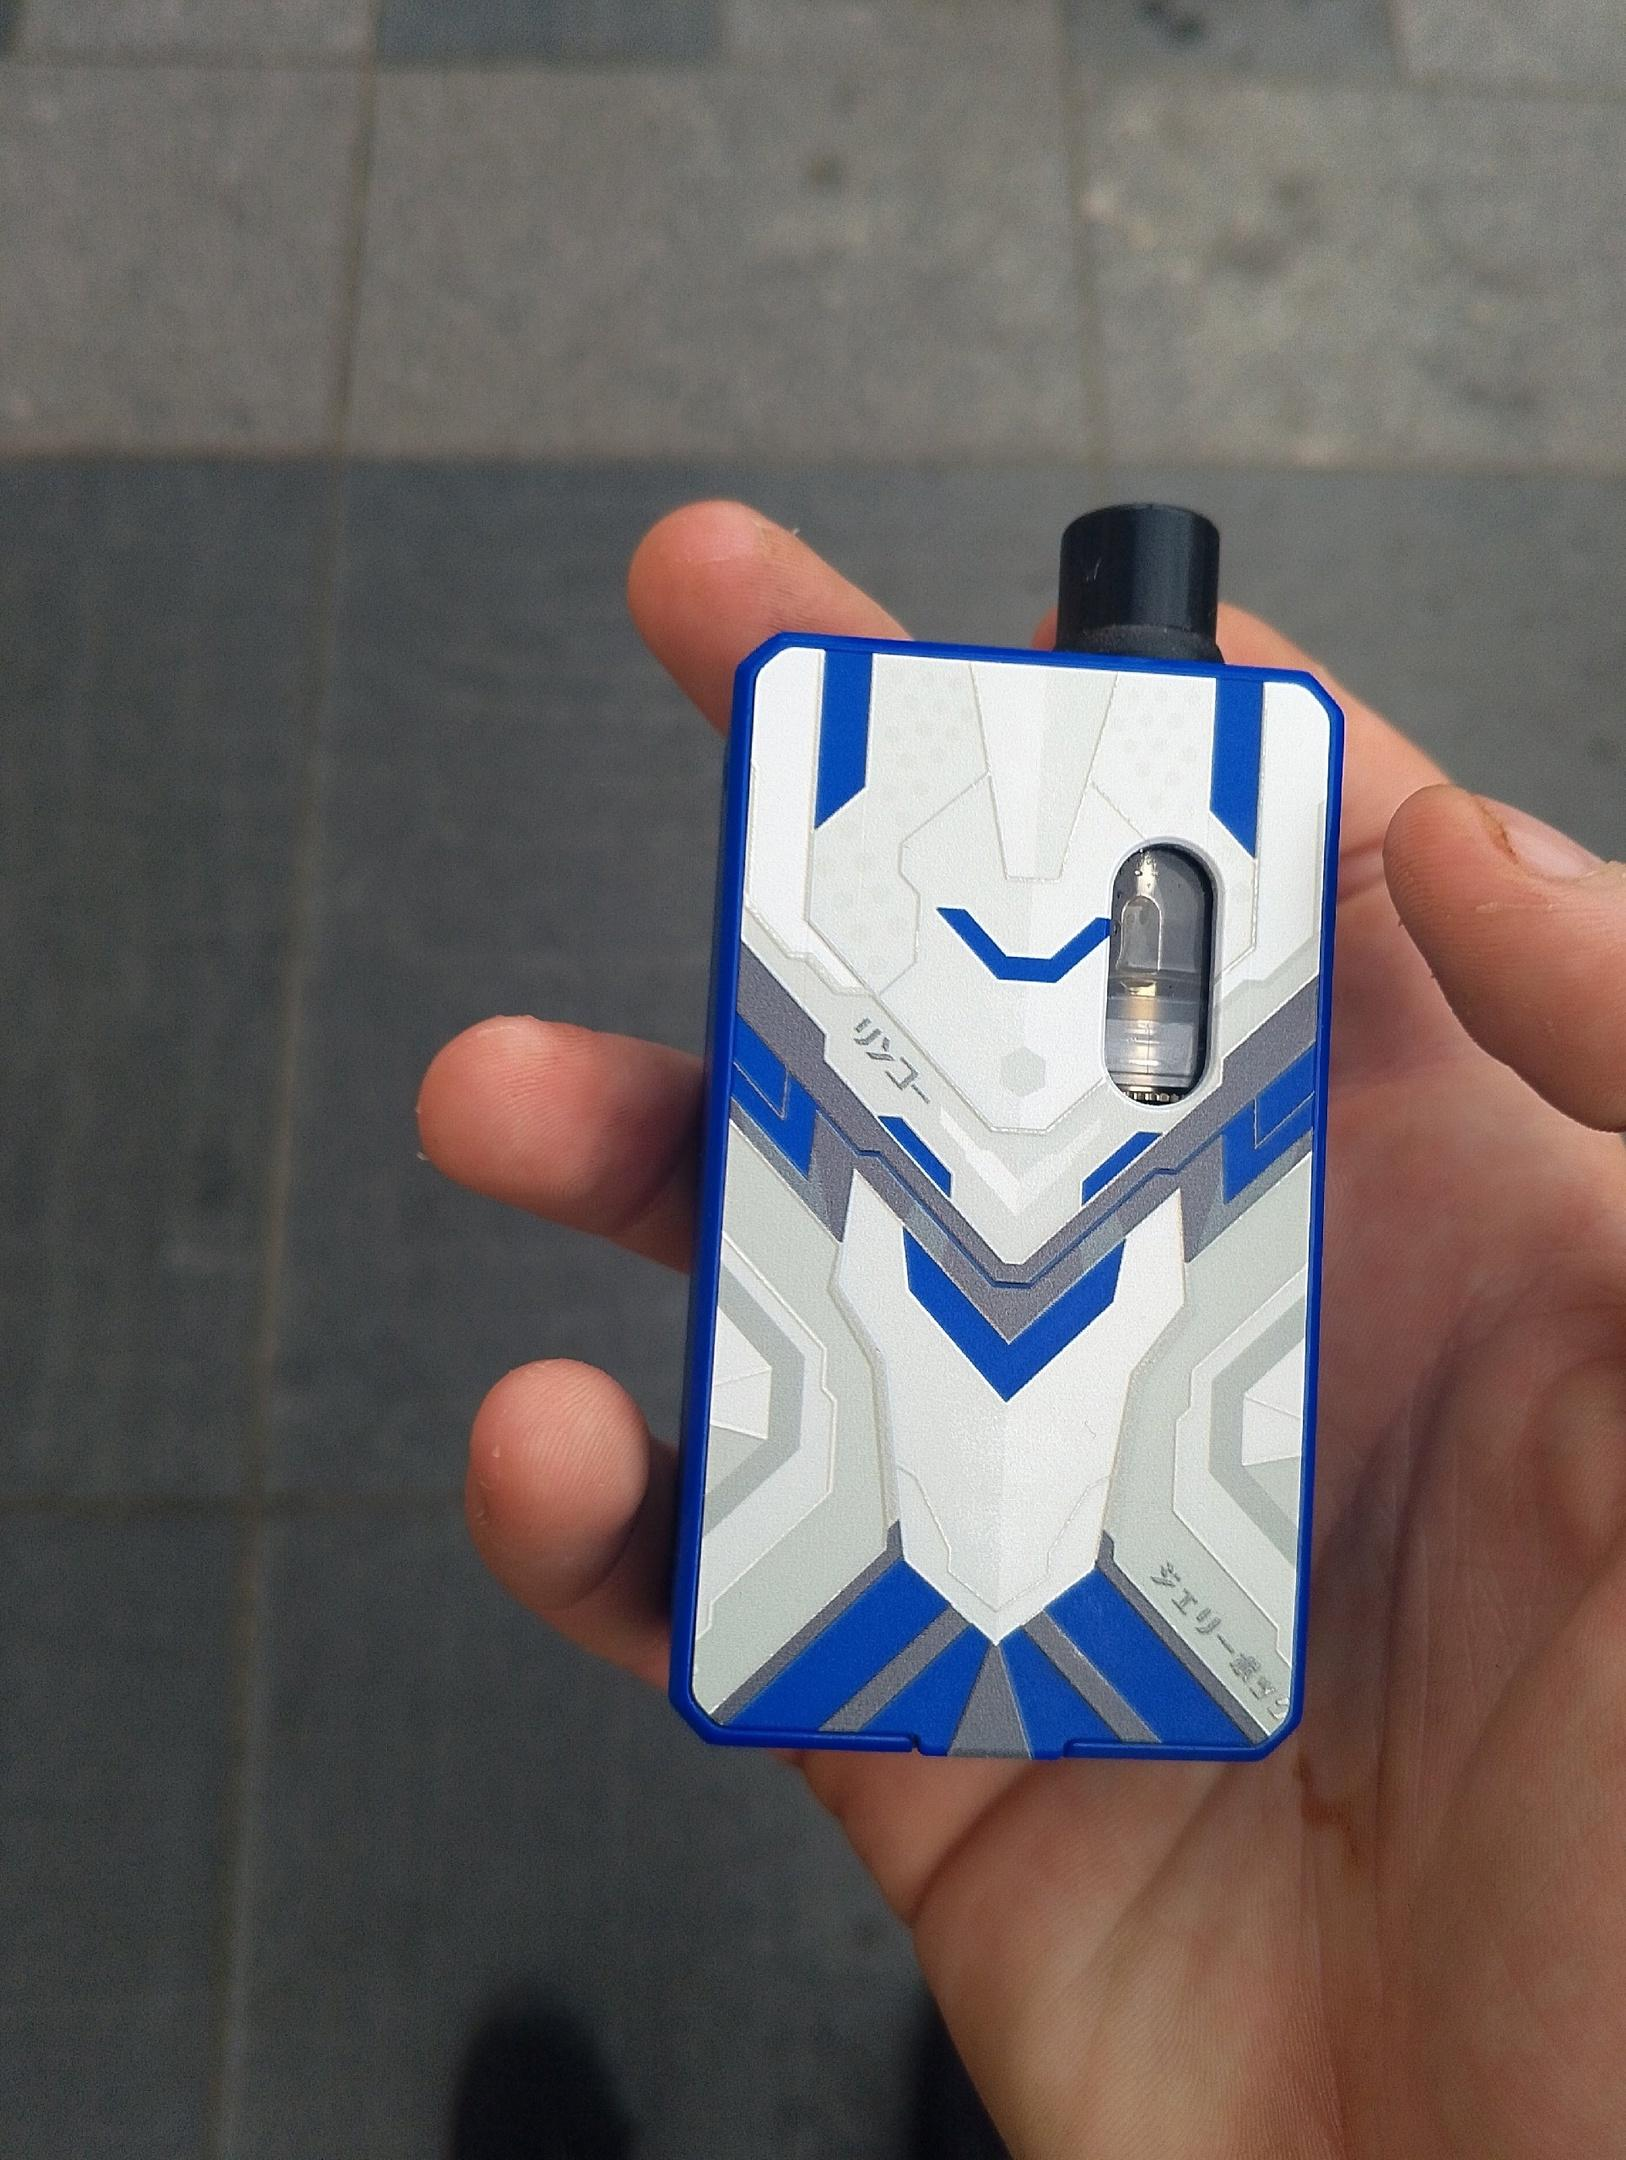Vape: (671, 505, 1342, 1759)
